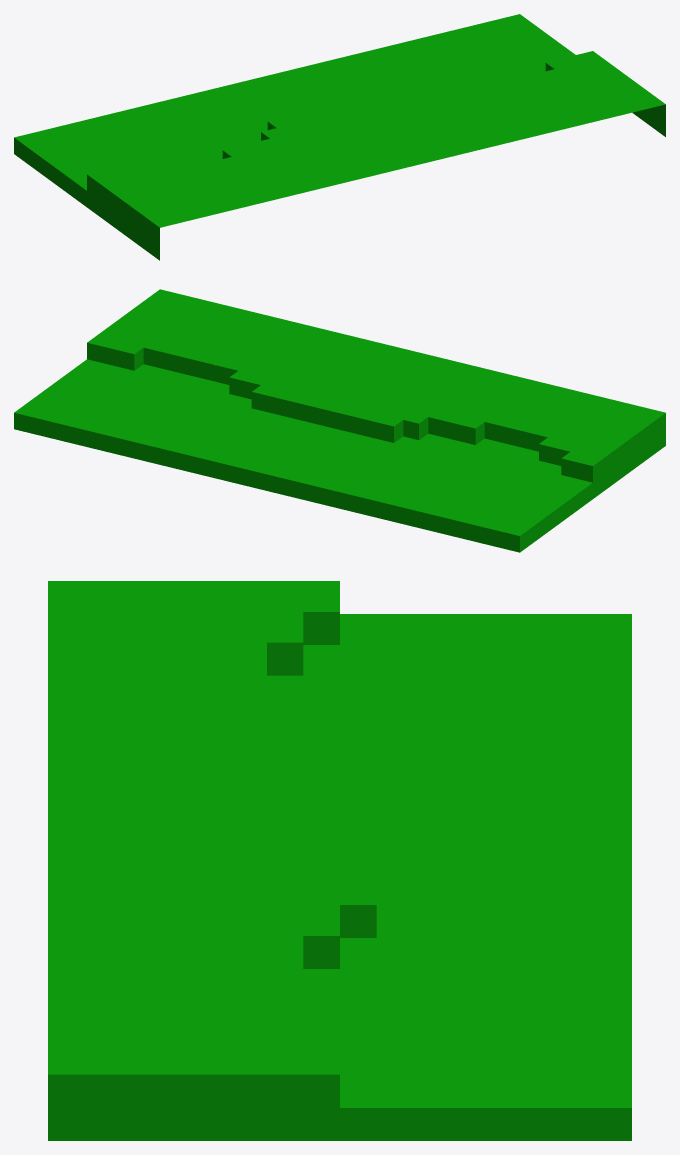
The model's file is Straight11.fbx.
3 renders of one model, top to bottom at view 1: azimuth 30°, elevation 25°; view 2: azimuth 150°, elevation 25°; view 3: azimuth 270°, elevation 25°, orthographic. The views are drawn at different scales.
Parts seen in each view (by area): view 1: Matrix; view 2: Matrix; view 3: Matrix.
Part boxes in pixels (bbox=[...]): Matrix: bbox=[14, 14, 665, 260]; Matrix: bbox=[14, 289, 665, 552]; Matrix: bbox=[48, 581, 631, 1140].
Bounding box in the file's own units: 32 × 2 × 16.
1 material, 1 textured.
